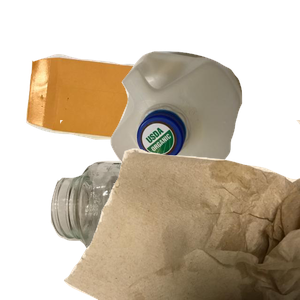glass: (48, 156, 260, 300)
paper: (23, 51, 206, 189)
plastic: (108, 49, 300, 226)
trash: (60, 120, 300, 300)
